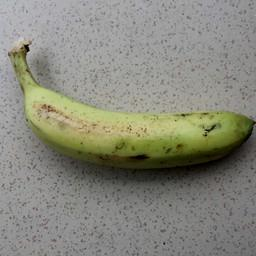Banana Ripe: (0, 72, 256, 180)
